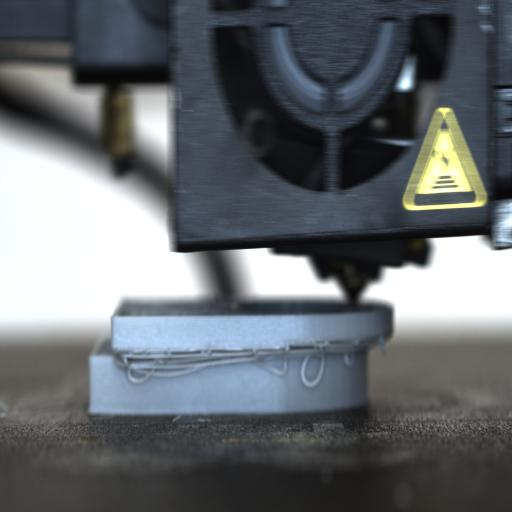layer_shift: (87, 338, 395, 362)
